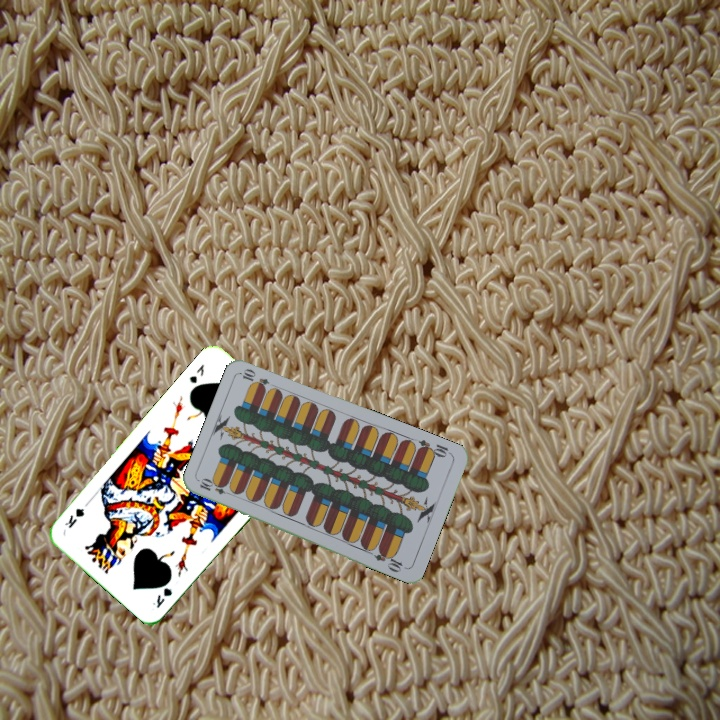E10: (414, 436, 454, 460), (196, 476, 236, 498)
GK: (148, 583, 175, 611), (185, 360, 207, 386)
